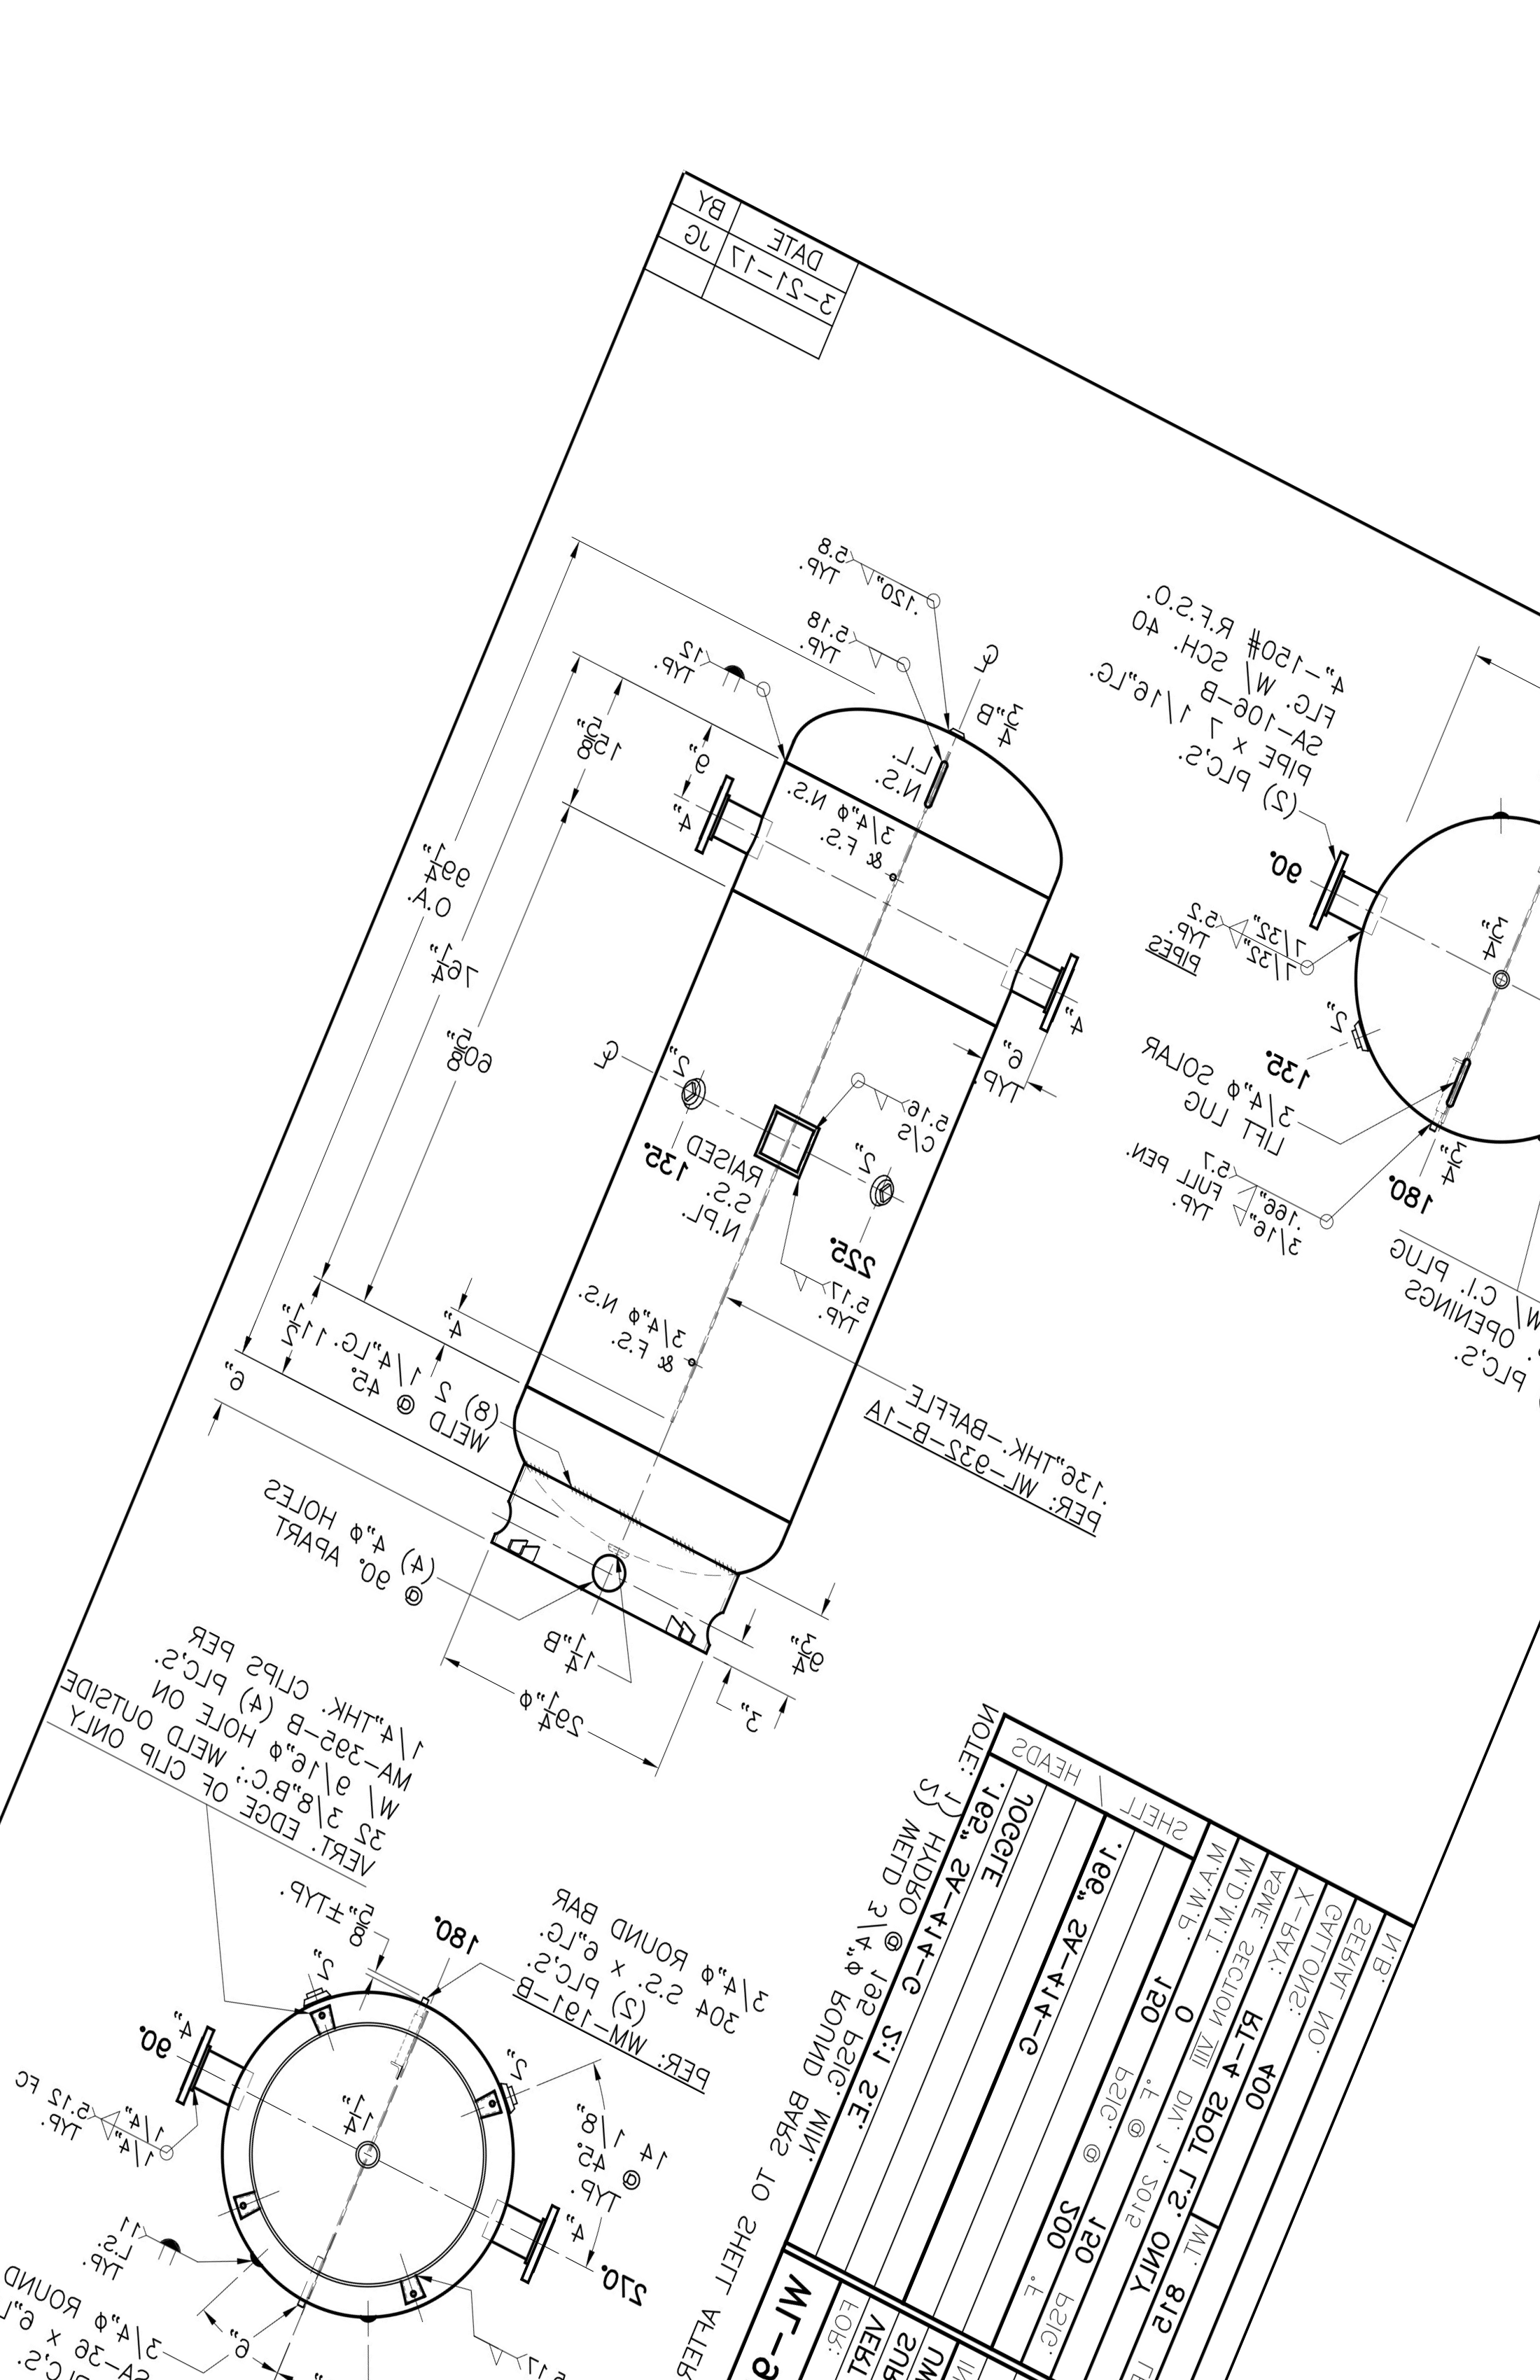Nozzle: (149, 2035, 293, 2160), (669, 762, 798, 890), (1290, 853, 1406, 958), (477, 2208, 605, 2292)
